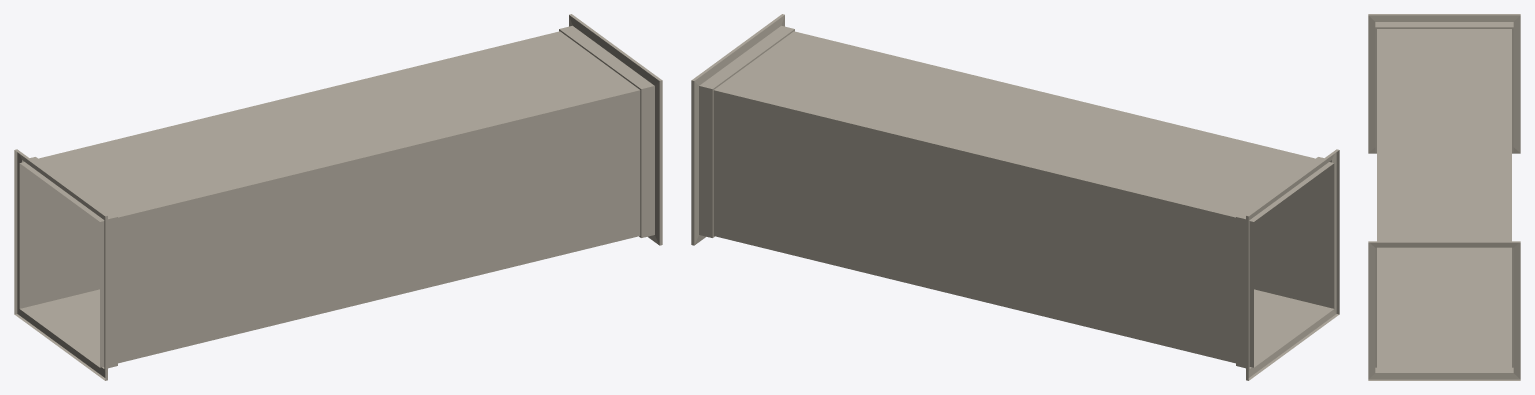
Rendered from SM_Airing_200.fbx.
3 views of the same model, side by side, from view 1: azimuth 30°, elevation 25°; view 2: azimuth 150°, elevation 25°; view 3: azimuth 270°, elevation 25° (orthographic). The views are drawn at different scales.
Visible parts, largest first — view 1: SM_Airing_200; view 2: SM_Airing_200; view 3: SM_Airing_200.
Part boxes in pixels (x1,y1,x2,y2): SM_Airing_200: [14, 14, 662, 380]; SM_Airing_200: [691, 14, 1339, 380]; SM_Airing_200: [1368, 14, 1520, 380].
Bounding box in the file's own units: 200 × 56.42 × 56.42.
